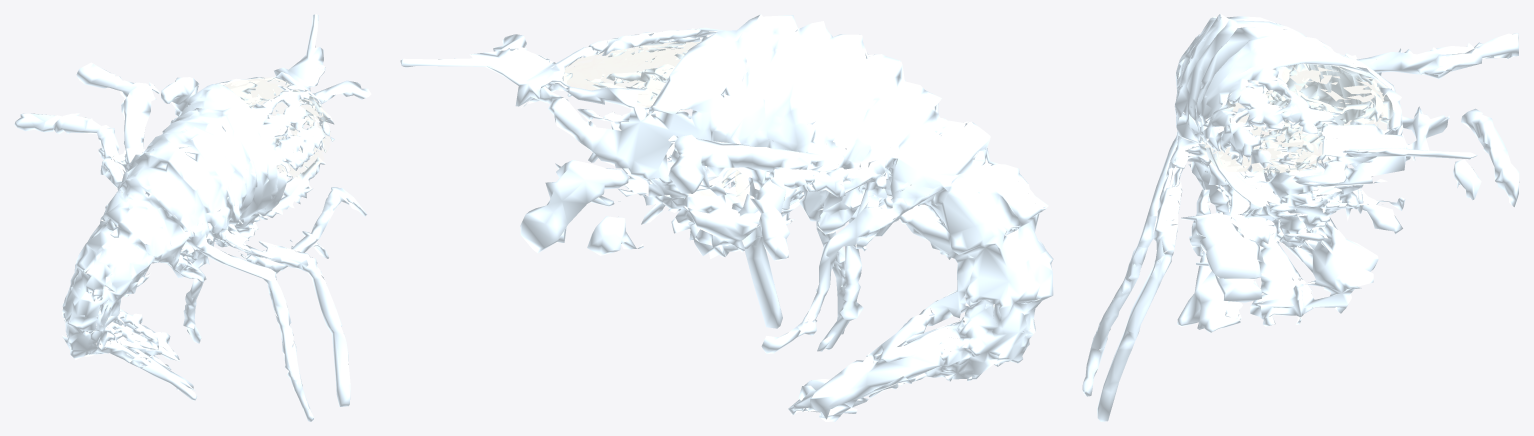
File: amphipod.glb
The picture shows the model from 3 angles, left to right: view 1: azimuth 30°, elevation 25°; view 2: azimuth 150°, elevation 25°; view 3: azimuth 270°, elevation 25°; orthographic projection. The views are drawn at different scales.
Visible parts, largest first — view 1: exoskeleton_Poisson_1; view 2: exoskeleton_Poisson_1, broodsac_cecum_Poisson_0; view 3: exoskeleton_Poisson_1.
Boxes of the visible parts, bbox=[...] form: exoskeleton_Poisson_1: bbox=[14, 14, 371, 421]; exoskeleton_Poisson_1: bbox=[400, 14, 1053, 421]; broodsac_cecum_Poisson_0: bbox=[700, 166, 749, 201]; exoskeleton_Poisson_1: bbox=[1082, 14, 1519, 421].
Size of what is drawn, in the model's own units: 57.63 by 42.28 by 47.75.
